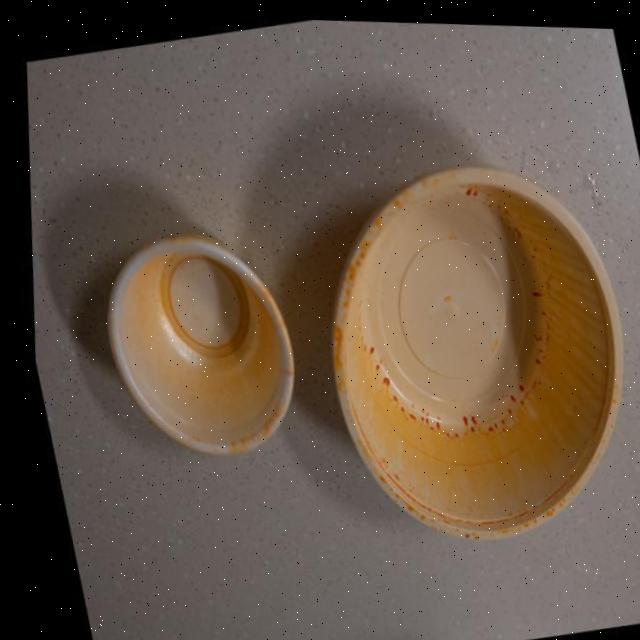disposable: (298, 142, 640, 552)
